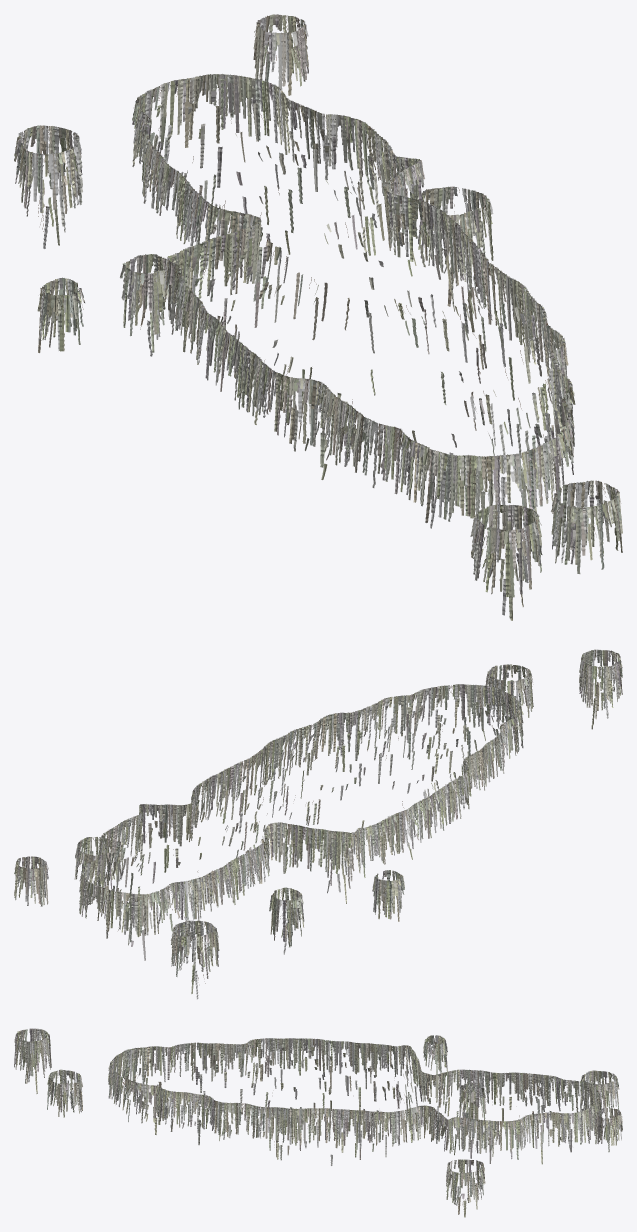
File: SM_H03_Vines.fbx
3 views of the same model, one above another, from view 1: azimuth 30°, elevation 25°; view 2: azimuth 150°, elevation 25°; view 3: azimuth 270°, elevation 25° (orthographic). The views are drawn at different scales.
Parts seen in each view (by area): view 1: SM_H03_Vines; view 2: SM_H03_Vines; view 3: SM_H03_Vines.
Boxes of the visible parts, <box> form: SM_H03_Vines: <box>14,14,622,620</box>; SM_H03_Vines: <box>14,649,622,999</box>; SM_H03_Vines: <box>14,1028,622,1217</box>.
Size of the model in its own units: 229 by 90.11 by 488.
